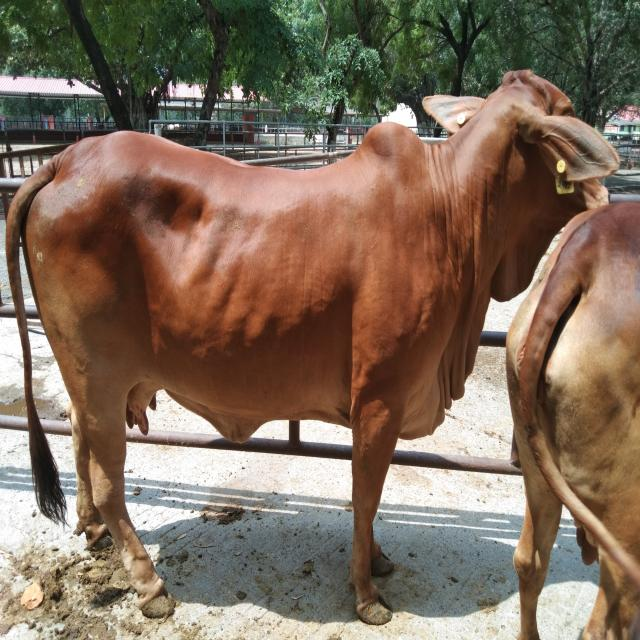Hoof: (141, 589, 176, 619), (355, 599, 392, 625), (371, 551, 394, 576)
